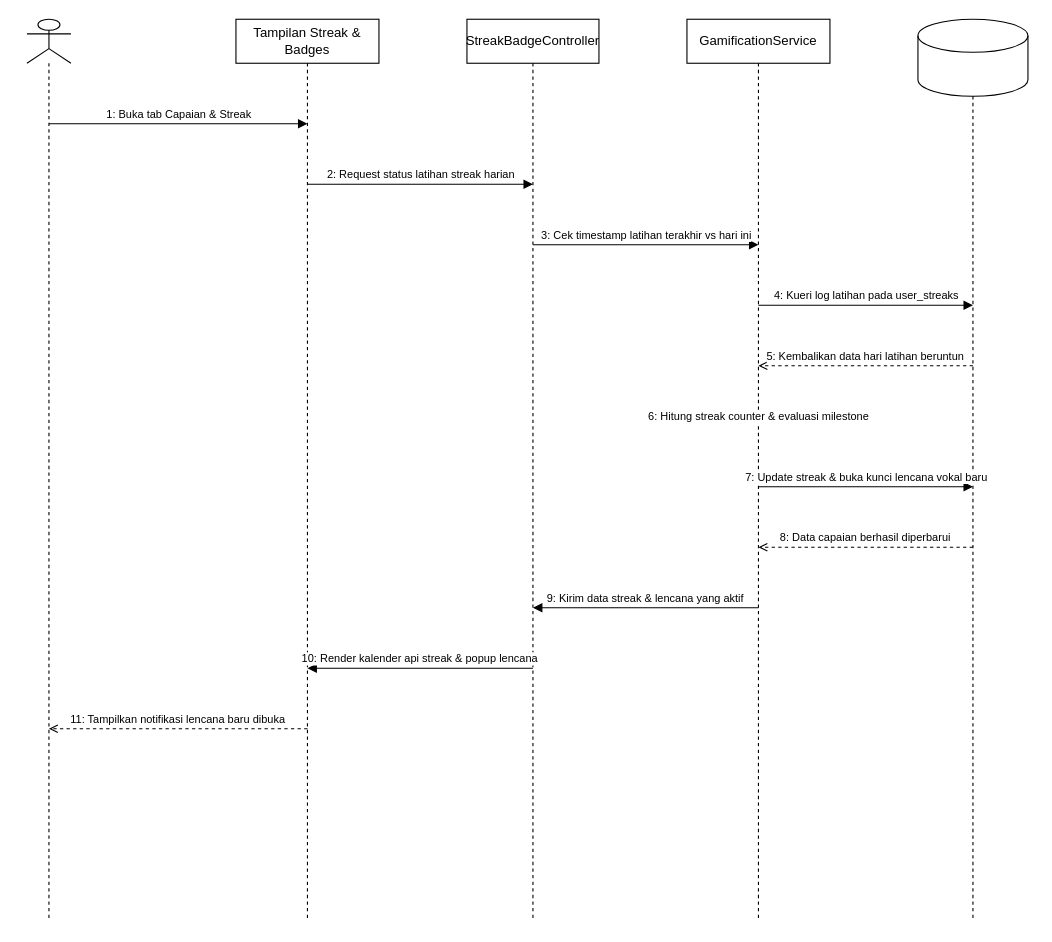
Image size: 1052x942. Some labels were removed from this diagram. Here are the shapes that lost their labels. From the top down, the box of each, then its label:
(917, 18, 1028, 96): <<Database>> UserGamificationDB
(26, 18, 71, 921): Pengguna
